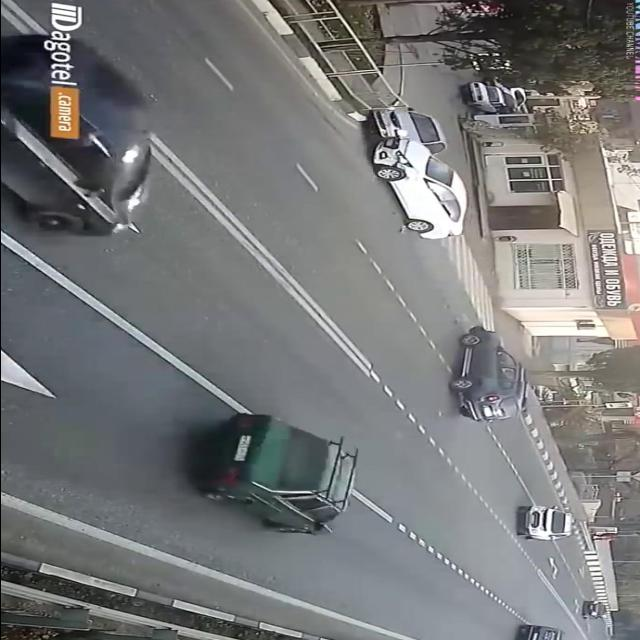accident: (361, 95, 477, 245)
